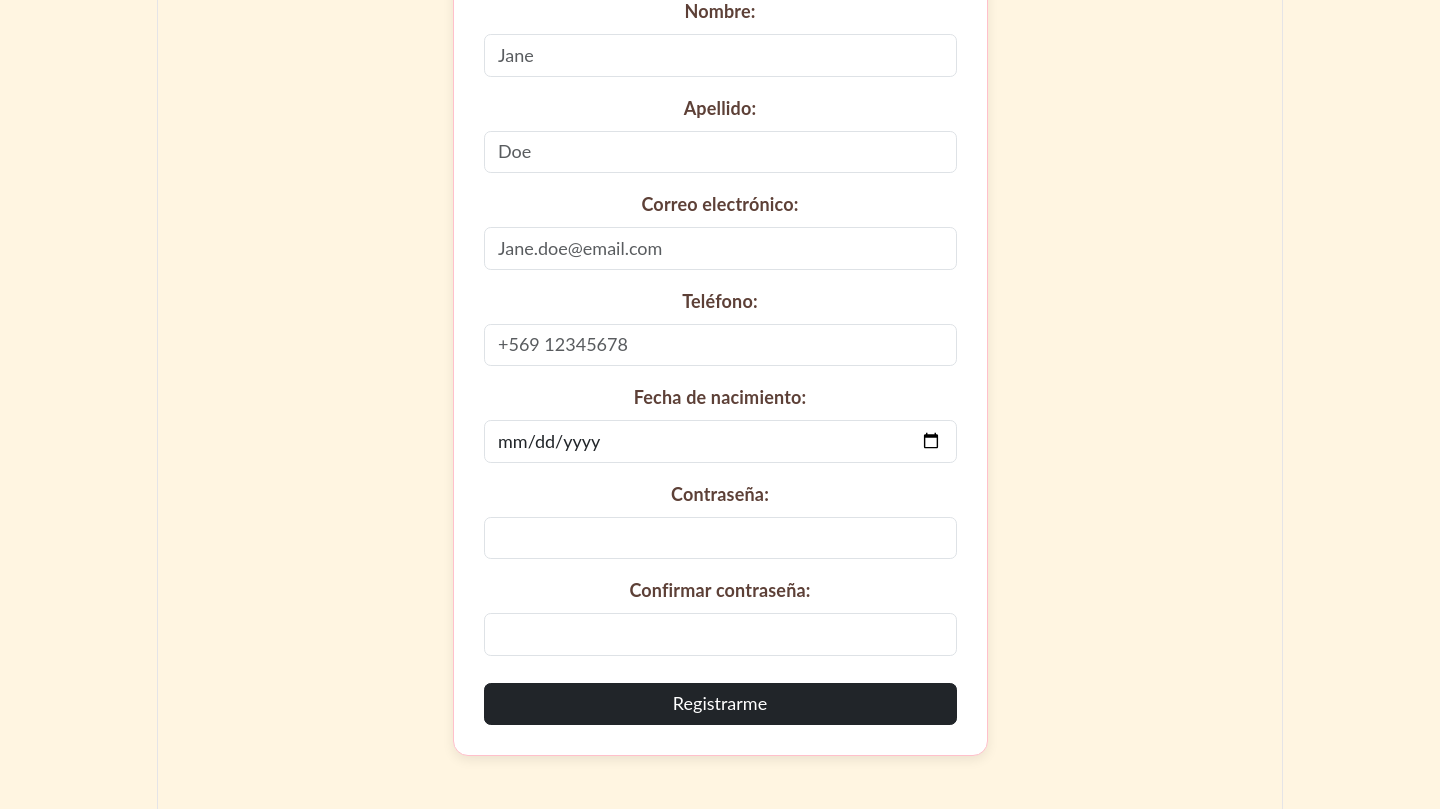
Test: Formulario de registro › muestra errores cuando se envía el formulario vacío
(page scrolled)
Click the button "Registrarme": (720, 704) [484,683,956,725]
(page scrolled)
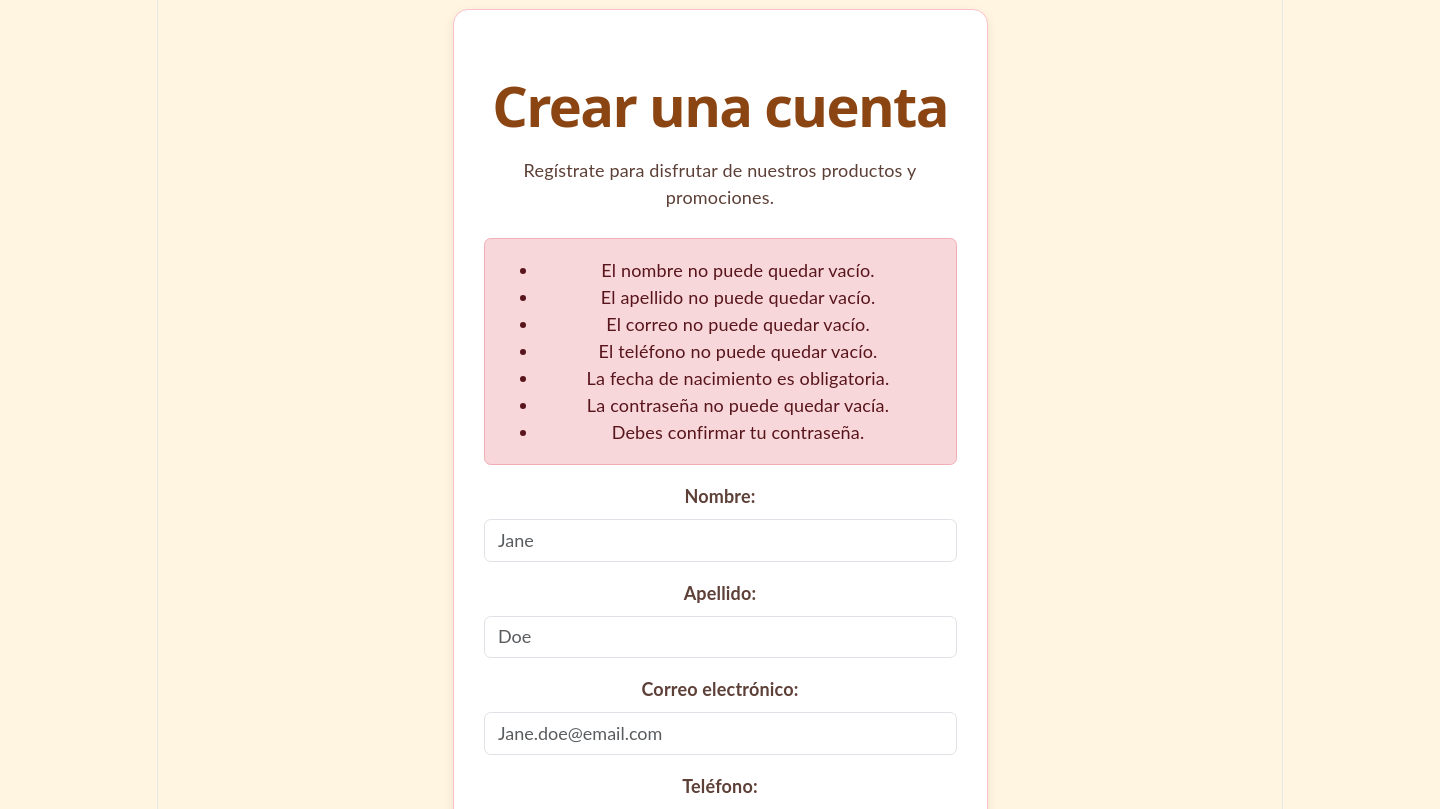
Now the list item "El nombre no puede quedar vacío." is shown, box [601,259,875,281]
Now the list item "El correo no puede quedar vacío." is shown, box [606,313,870,335]
Now the list item "La contraseña no puede quedar vacía." is shown, box [587,394,889,416]
